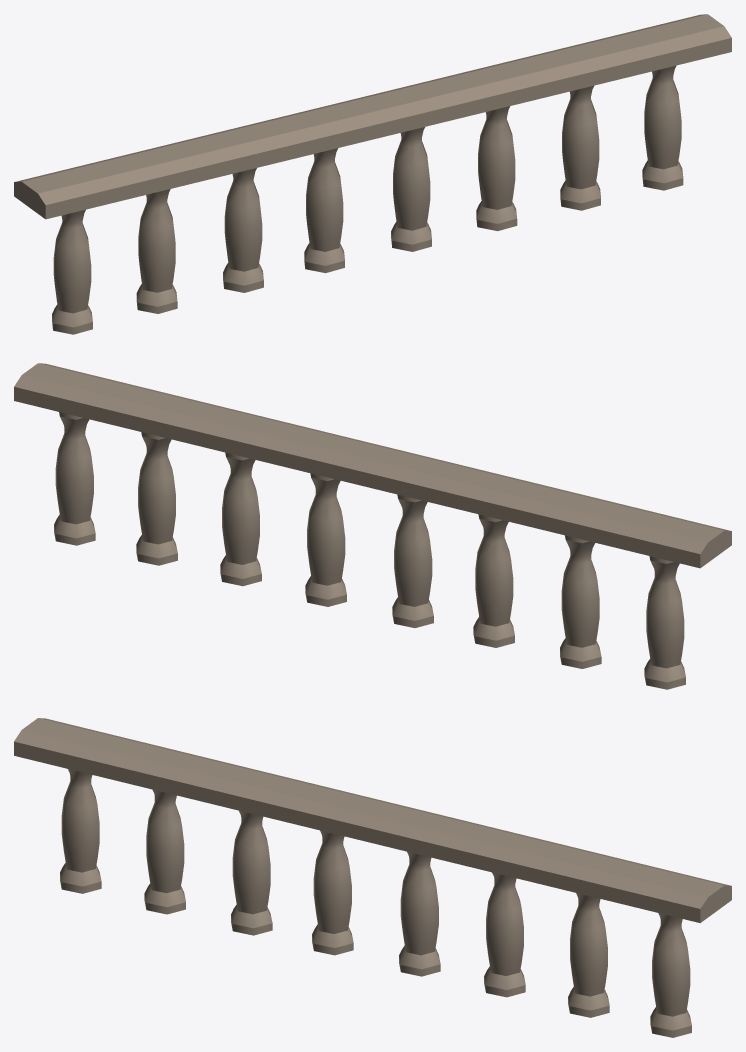
Rendered from BC_InsideFrame_B.fbx.
3 views of the same model, one above another, from view 1: azimuth 30°, elevation 25°; view 2: azimuth 150°, elevation 25°; view 3: azimuth 330°, elevation 25° (orthographic).
Visible parts, largest first — view 1: BC_InsideFrame_B; view 2: BC_InsideFrame_B; view 3: BC_InsideFrame_B.
Part boxes in pixels (bbox=[...]): BC_InsideFrame_B: bbox=[14, 14, 731, 334]; BC_InsideFrame_B: bbox=[14, 363, 731, 689]; BC_InsideFrame_B: bbox=[14, 718, 731, 1037].
Size of the model in its own units: 365 by 77.35 by 29.15.
